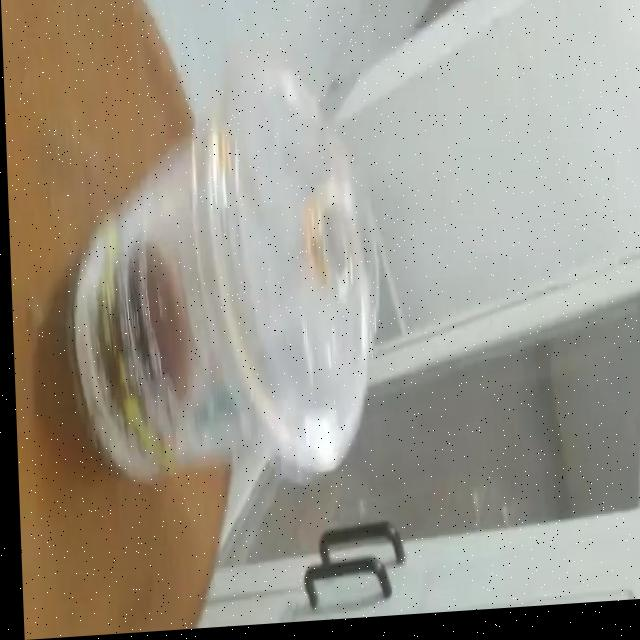cup: (70, 131, 258, 480)
